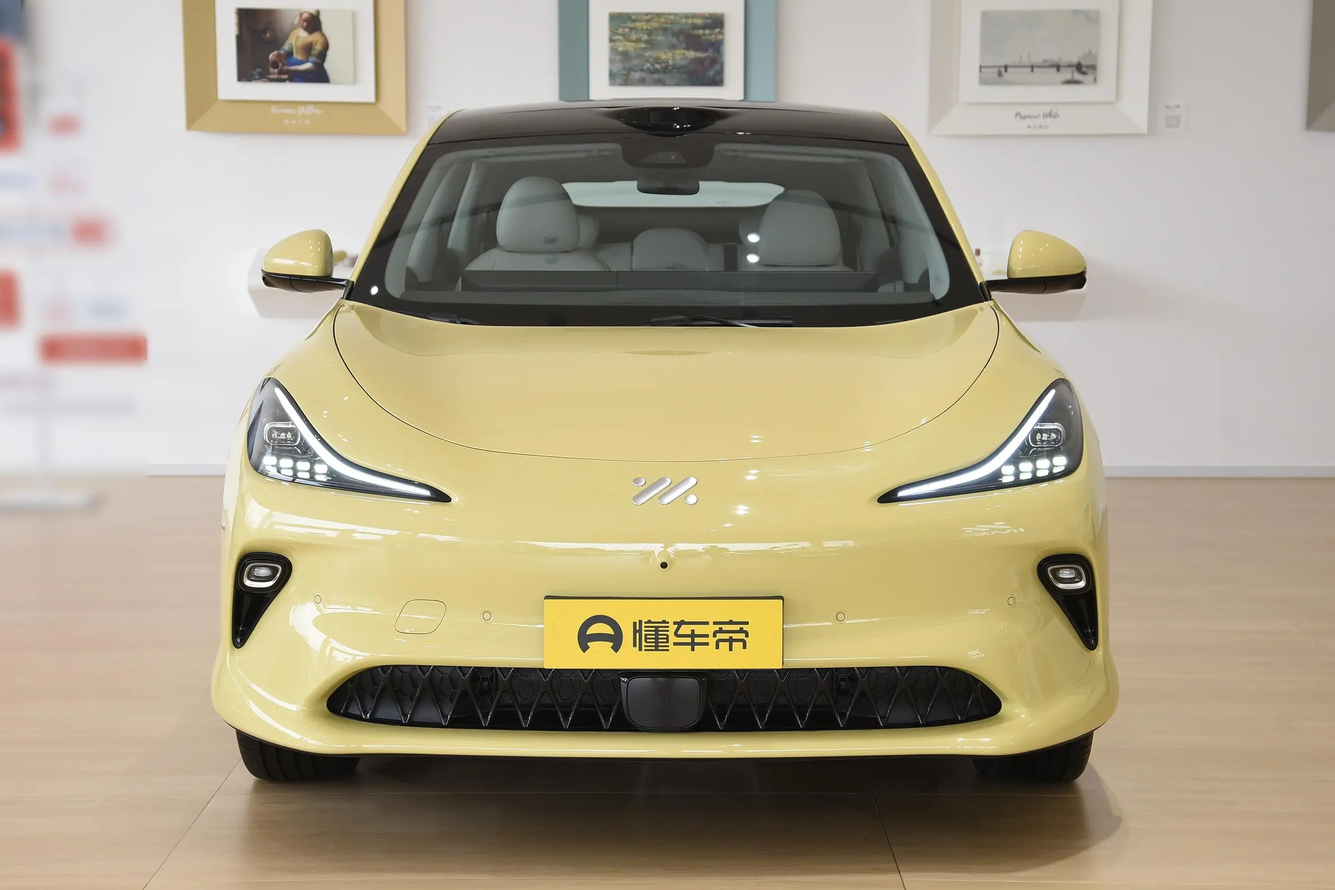IM: (632, 478, 697, 505)
